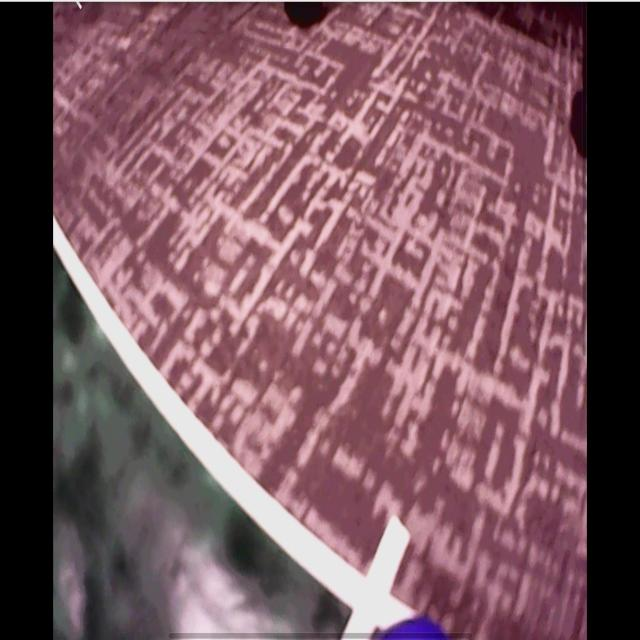ball: (381, 616, 445, 640)
